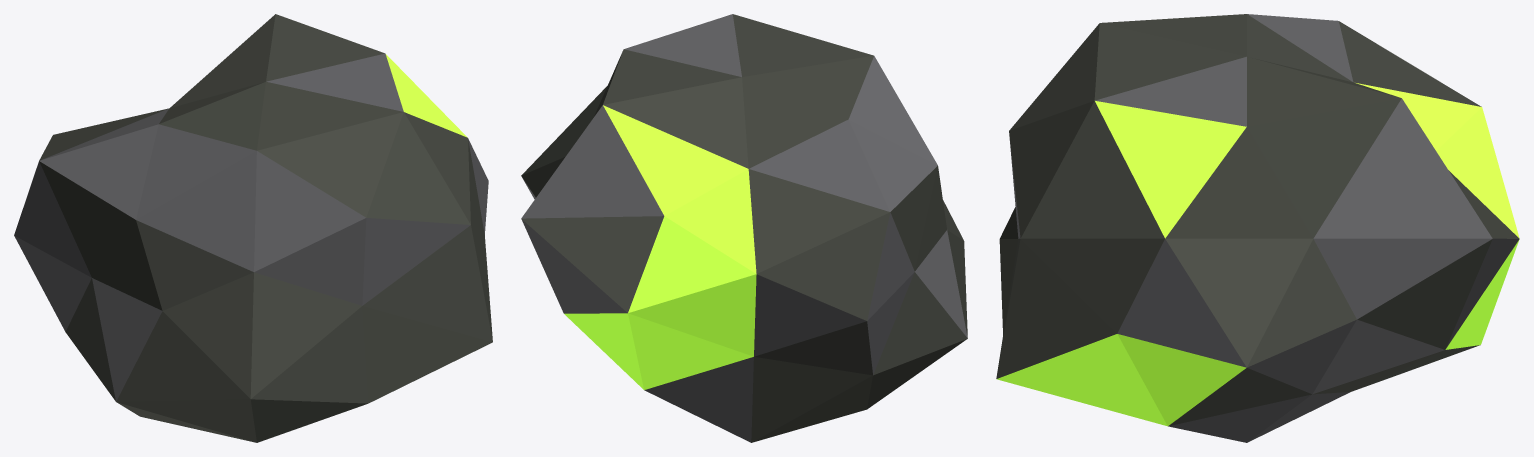
Rendered from uranium_ore.glb.
The picture shows the model from 3 angles, left to right: view 1: azimuth 30°, elevation 25°; view 2: azimuth 150°, elevation 25°; view 3: azimuth 270°, elevation 25°; orthographic projection. The views are drawn at different scales.
Parts seen in each view (by area): view 1: uranium_ore; view 2: uranium_ore; view 3: uranium_ore.
Part boxes in pixels (bbox=[...]): uranium_ore: bbox=[14, 14, 492, 442]; uranium_ore: bbox=[521, 14, 967, 442]; uranium_ore: bbox=[996, 14, 1519, 442].
Bounding box in the file's own units: 0.9159 × 0.6499 × 0.8505.
